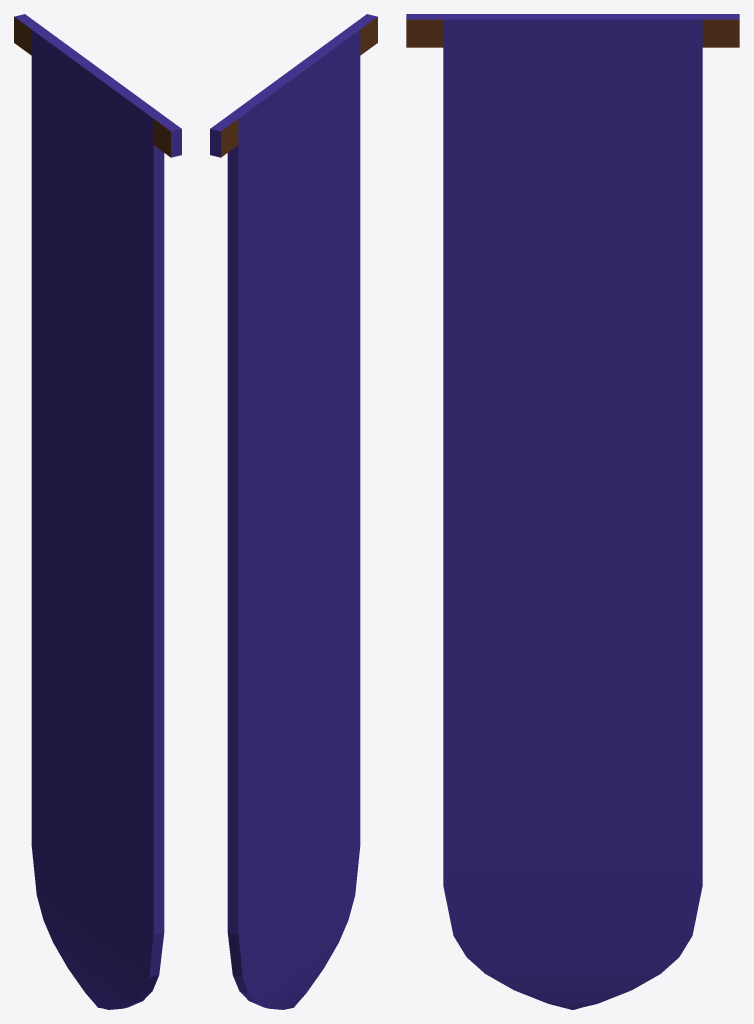
Rendered from Banner3.fbx.
The picture shows the model from 3 angles, left to right: view 1: azimuth 30°, elevation 25°; view 2: azimuth 150°, elevation 25°; view 3: azimuth 270°, elevation 25°; orthographic projection. The views are drawn at different scales.
Visible parts, largest first — view 1: Cube; view 2: Cube; view 3: Cube.
Boxes of the visible parts, <box> form: Cube: <box>14,14,181,1009</box>; Cube: <box>210,14,377,1009</box>; Cube: <box>406,14,739,1009</box>.
Size of the model in its own units: 10.27 by 846 by 257.
